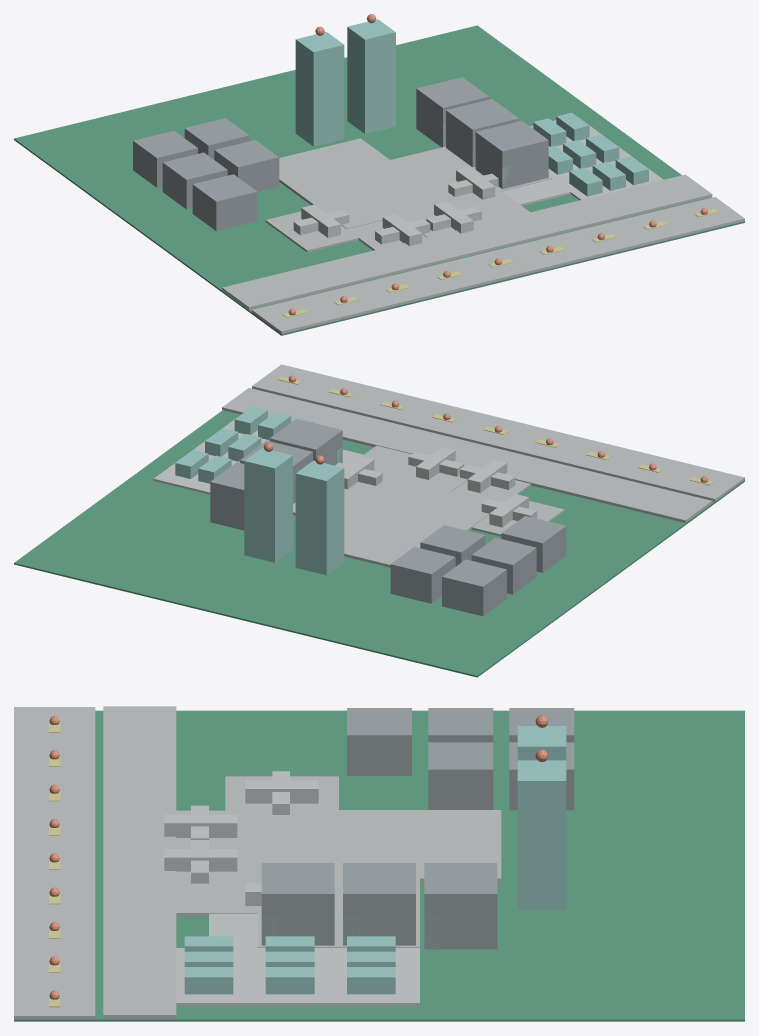
File: stage_24.glb
3 renders of one model, top to bottom at view 1: azimuth 30°, elevation 25°; view 2: azimuth 150°, elevation 25°; view 3: azimuth 270°, elevation 25°, orthographic. The views are drawn at different scales.
Parts seen in each view (by area): view 1: geometry_0; view 2: geometry_0; view 3: geometry_0.
Part boxes in pixels (x1=…): geometry_0: x1=14, y1=14, x2=744, y2=335; geometry_0: x1=14, y1=364, x2=744, y2=677; geometry_0: x1=14, y1=706, x2=744, y2=1021.
Bounding box in the file's own units: 9 × 2.06 × 9.
